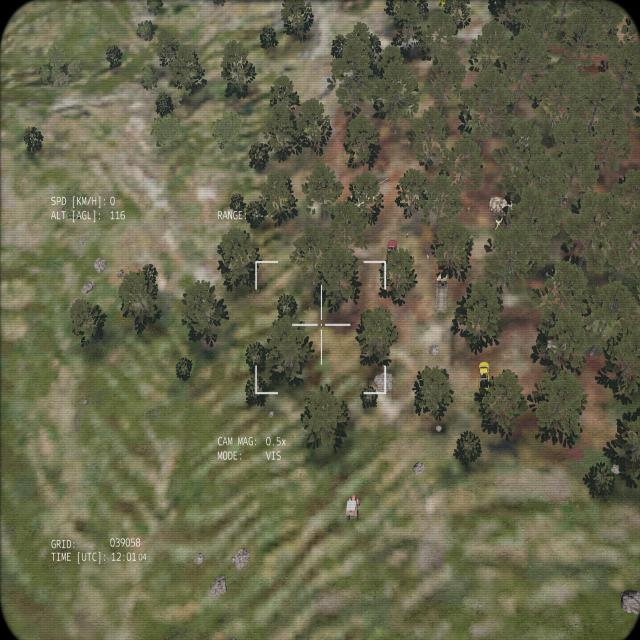apc: (489, 194, 521, 220)
car: (475, 356, 492, 394), (385, 237, 399, 270)
tank: (350, 176, 388, 209)
truck: (434, 271, 449, 314)
